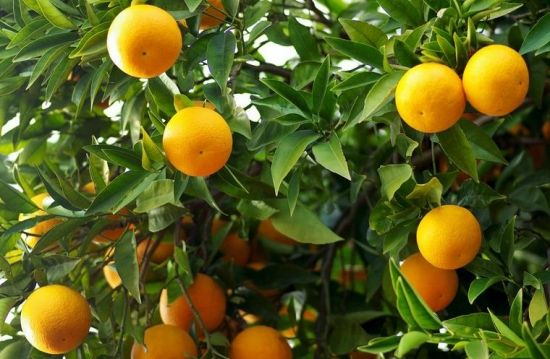orange: (106, 5, 184, 79), (163, 107, 234, 179), (394, 62, 464, 132), (21, 285, 88, 355), (462, 45, 528, 116), (416, 205, 481, 269), (396, 252, 460, 312), (159, 274, 225, 332), (128, 324, 197, 359), (229, 323, 291, 359)
